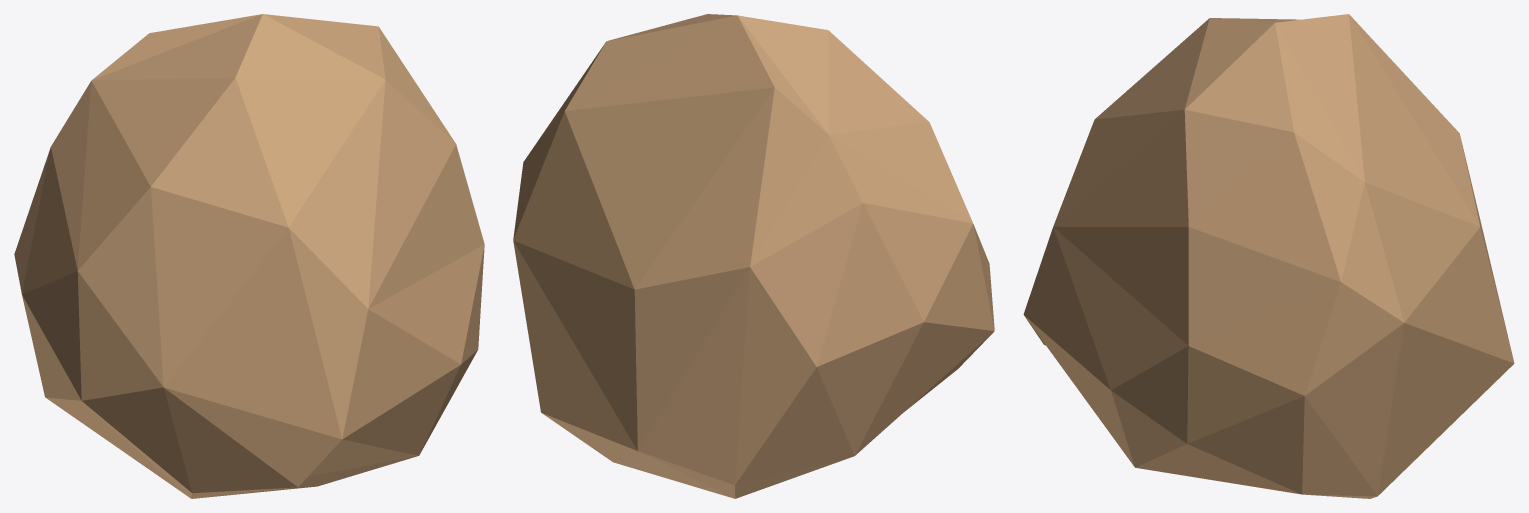
File: cloud03.obj
3 renders of one model, left to right at view 1: azimuth 30°, elevation 25°; view 2: azimuth 150°, elevation 25°; view 3: azimuth 270°, elevation 25°, orthographic. The views are drawn at different scales.
Parts seen in each view (by area): view 1: cloud03.obj; view 2: cloud03.obj; view 3: cloud03.obj.
Boxes of the visible parts, x1,y1,x2,y2 form: cloud03.obj: (14,14,484,498); cloud03.obj: (513,14,994,498); cloud03.obj: (1023,14,1514,498).
Size of the model in its own units: 2.5 by 2.5 by 2.5.
